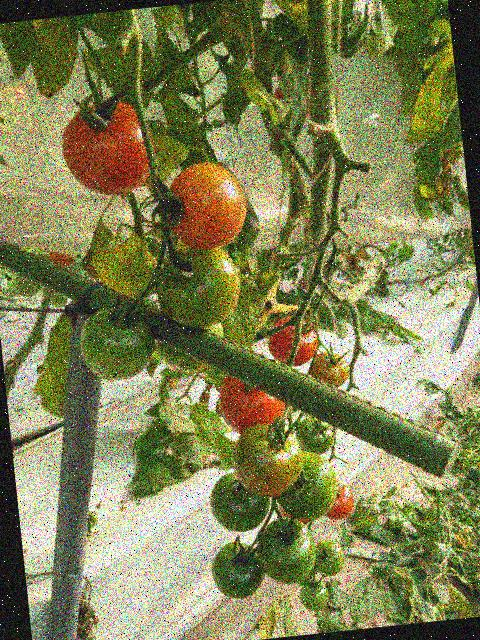l_fully_ripened: (58, 98, 160, 201), (216, 368, 287, 436), (265, 313, 321, 370), (322, 480, 356, 521)
l_green: (152, 241, 245, 333), (77, 303, 158, 384), (270, 447, 340, 523), (153, 307, 227, 376), (254, 514, 320, 587), (207, 468, 274, 535), (208, 539, 268, 602), (294, 413, 336, 458), (312, 538, 347, 578), (298, 578, 331, 613)
l_half_ripened: (163, 158, 252, 255), (229, 419, 306, 500), (307, 349, 352, 391)
